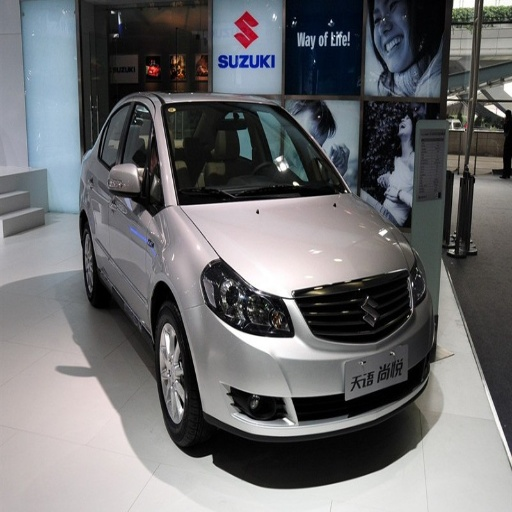front_bumper: (185, 268, 435, 439)
front_right_door: (112, 100, 162, 318)
front_right_light: (201, 260, 294, 335)
hood: (182, 192, 416, 296)
